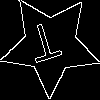T: (25, 20, 66, 72)
